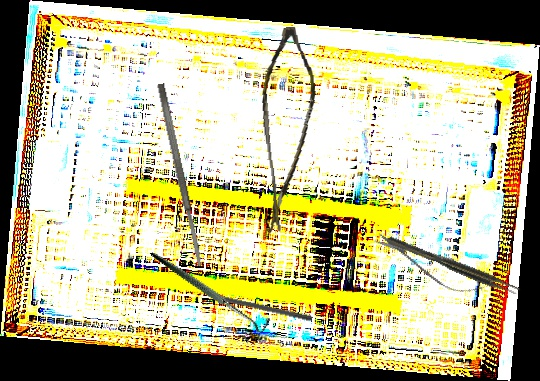Hook Surgical: (150, 218, 274, 361)
Micro Scissor: (243, 24, 333, 236), (368, 223, 490, 303)
Pusher: (191, 287, 314, 322)
Spatula Surgical: (155, 82, 205, 268)
Tissue Forceps: (386, 231, 522, 299)
